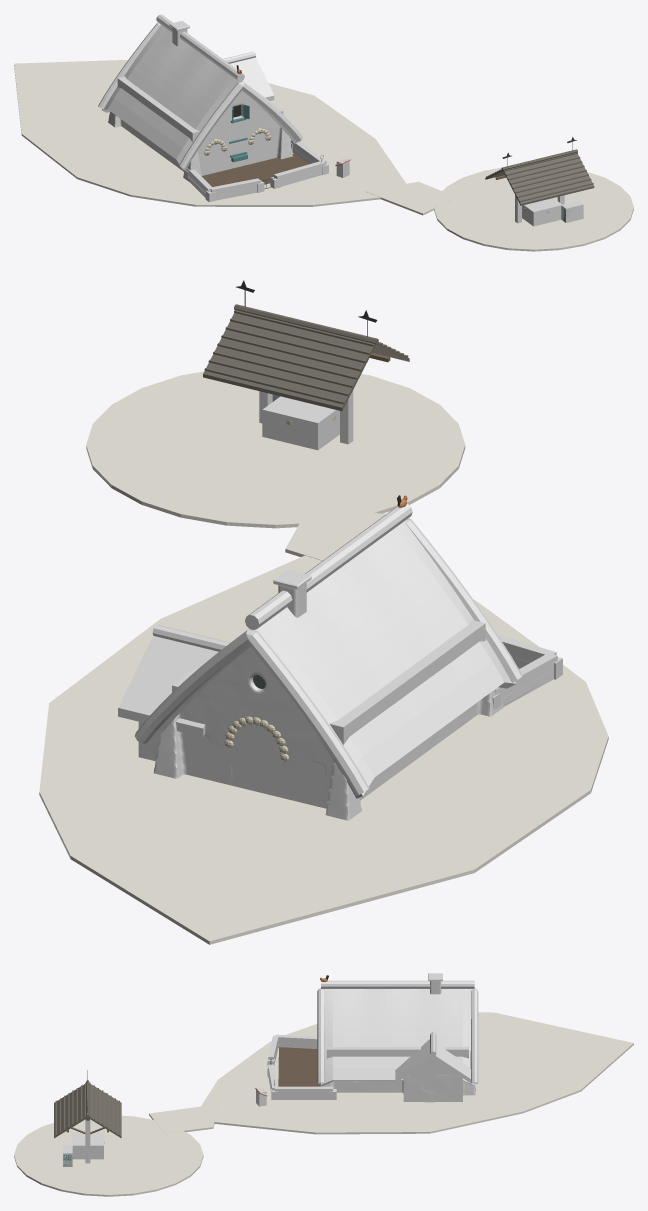
File: VH_holle.fbx
The picture shows the model from 3 angles, top to bottom: view 1: azimuth 30°, elevation 25°; view 2: azimuth 150°, elevation 25°; view 3: azimuth 270°, elevation 25°; orthographic projection. The views are drawn at different scales.
Parts seen in each view (by area): view 1: static__MAT_grind_0, static__TEX_riet_0, COLL_0, static__MAT_dakhout_0, static__TEX_stuc_V_0, static__MAT_modder_0, COLL_7, static__TEX_stuc_L_0, COLL_4, COLL_3, static__TEX_baksteen_0, COLL_10 (+4 smaller); view 2: static__MAT_grind_0, static__TEX_riet_0, static__MAT_dakhout_0, COLL_0, static__TEX_stuc_A_0, static__TEX_stuc_A_1, COLL_7, static__TEX_stuc_L_0, COLL_2; view 3: static__MAT_grind_0, static__TEX_riet_0, static__MAT_dakhout_0, static__TEX_stuc_R_0, static__MAT_modder_0, COLL_0, COLL_1, COLL_7, COLL_5, COLL_2, static__TEX_baksteen_0.
Part boxes in pixels (<box>): static__MAT_grind_0: <box>14,60,633,251</box>; static__TEX_riet_0: <box>98,14,302,170</box>; COLL_0: <box>117,76,283,175</box>; static__MAT_dakhout_0: <box>485,149,594,205</box>; static__TEX_stuc_V_0: <box>115,29,292,175</box>; static__MAT_modder_0: <box>190,153,308,194</box>; COLL_7: <box>522,198,561,226</box>; static__TEX_stuc_L_0: <box>108,24,282,182</box>; COLL_4: <box>274,161,325,186</box>; COLL_3: <box>210,178,260,200</box>; static__TEX_baksteen_0: <box>184,141,328,202</box>; COLL_10: <box>561,201,583,222</box>; static__MAT_grind_0: <box>39,371,608,944</box>; static__TEX_riet_0: <box>118,503,522,798</box>; static__MAT_dakhout_0: <box>203,304,409,411</box>; COLL_0: <box>172,620,485,808</box>; static__TEX_stuc_A_0: <box>138,650,490,820</box>; static__TEX_stuc_A_1: <box>138,570,310,785</box>; COLL_7: <box>262,396,339,450</box>; static__TEX_stuc_L_0: <box>173,576,503,820</box>; COLL_2: <box>495,653,557,706</box>; static__MAT_grind_0: <box>14,1012,633,1196</box>; static__TEX_riet_0: <box>317,980,478,1085</box>; static__MAT_dakhout_0: <box>54,1080,121,1138</box>; static__TEX_stuc_R_0: <box>321,979,475,1102</box>; static__MAT_modder_0: <box>278,1047,320,1086</box>; COLL_0: <box>326,1046,468,1092</box>; COLL_1: <box>403,1074,462,1101</box>; COLL_7: <box>71,1132,103,1159</box>; COLL_5: <box>275,1086,332,1099</box>; COLL_2: <box>276,1034,317,1048</box>; static__TEX_baksteen_0: <box>267,1037,336,1099</box>.
Bounding box in the file's own units: 27.1 × 8.78 × 38.6.
